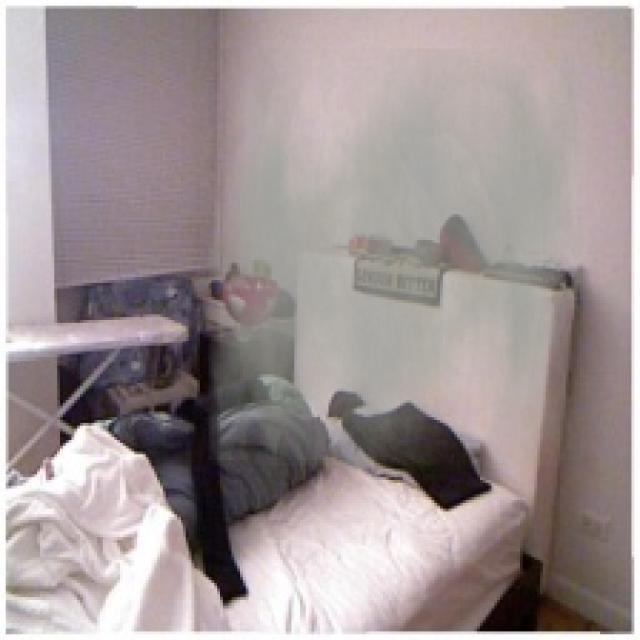Smoke: (208, 48, 586, 466)
